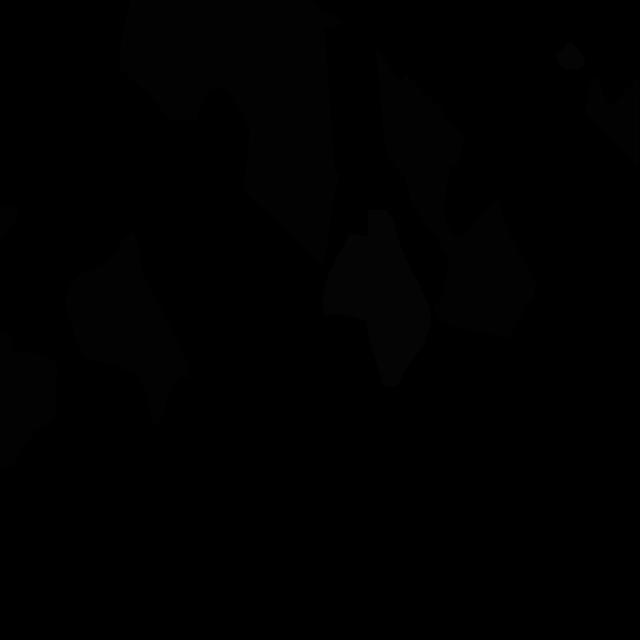cardboard: (120, 0, 345, 265), (376, 48, 536, 339), (65, 230, 190, 425), (0, 330, 58, 470), (584, 75, 640, 170), (0, 205, 18, 241)
soft_plastic: (322, 209, 431, 388), (556, 41, 585, 70)
